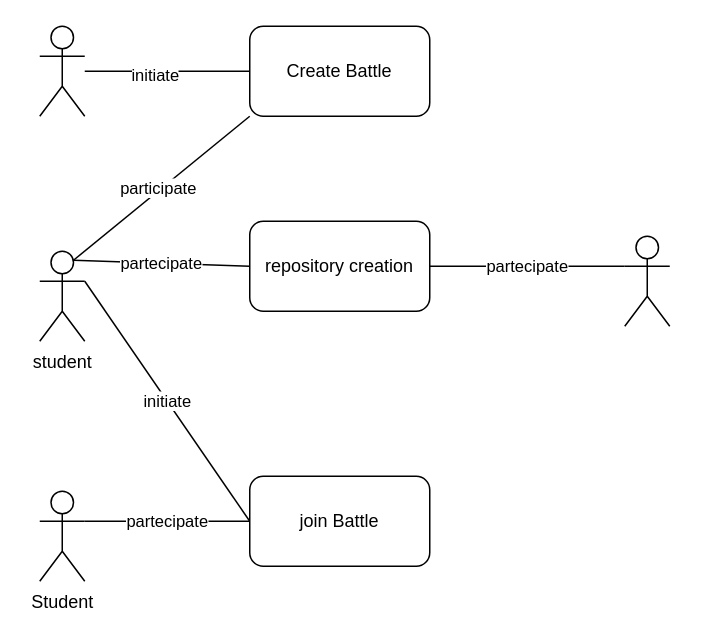
Some shapes in this 701 by 639 pixel diagram are drawn without their labels. The centre of each missing label's shape, as x and y in pixels:
Educator: (x=61, y=70)
GitHub: (x=646, y=280)
